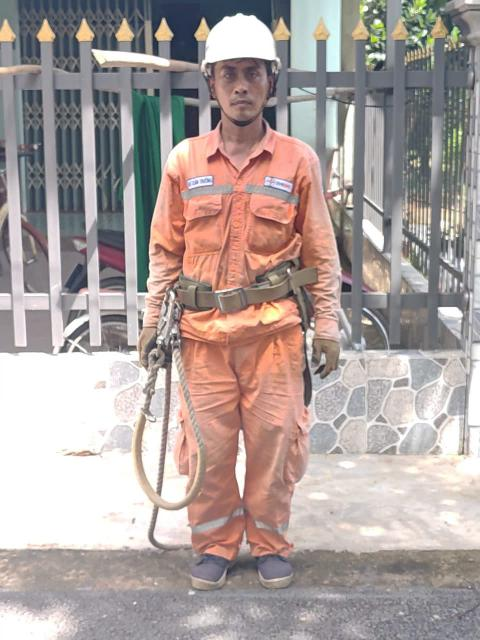gloves: (113, 306, 172, 379), (297, 333, 361, 389)
harness: (161, 258, 322, 329)
helmet: (181, 11, 297, 89)
shoes: (239, 526, 312, 591), (185, 534, 243, 594)
